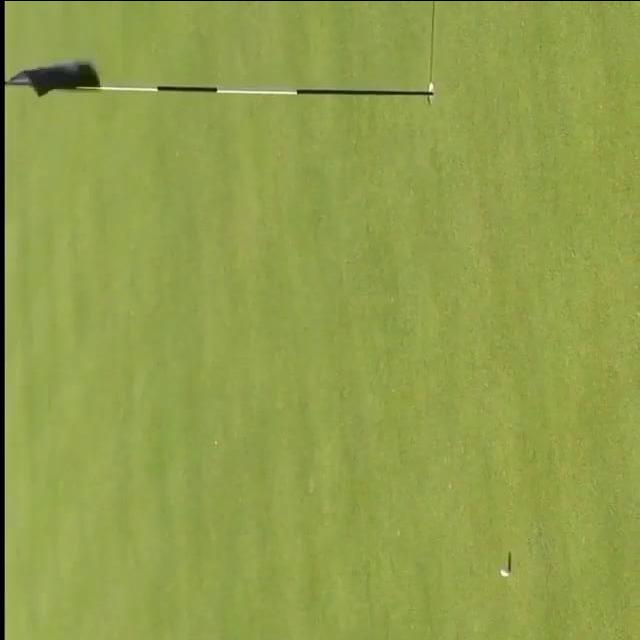GolfBall: (501, 567, 509, 575)
